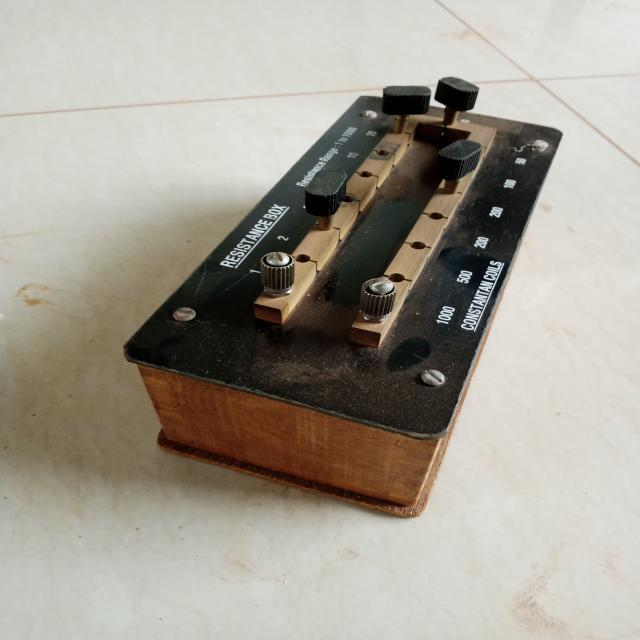Pinned Resistance Box: (100, 49, 586, 539)
